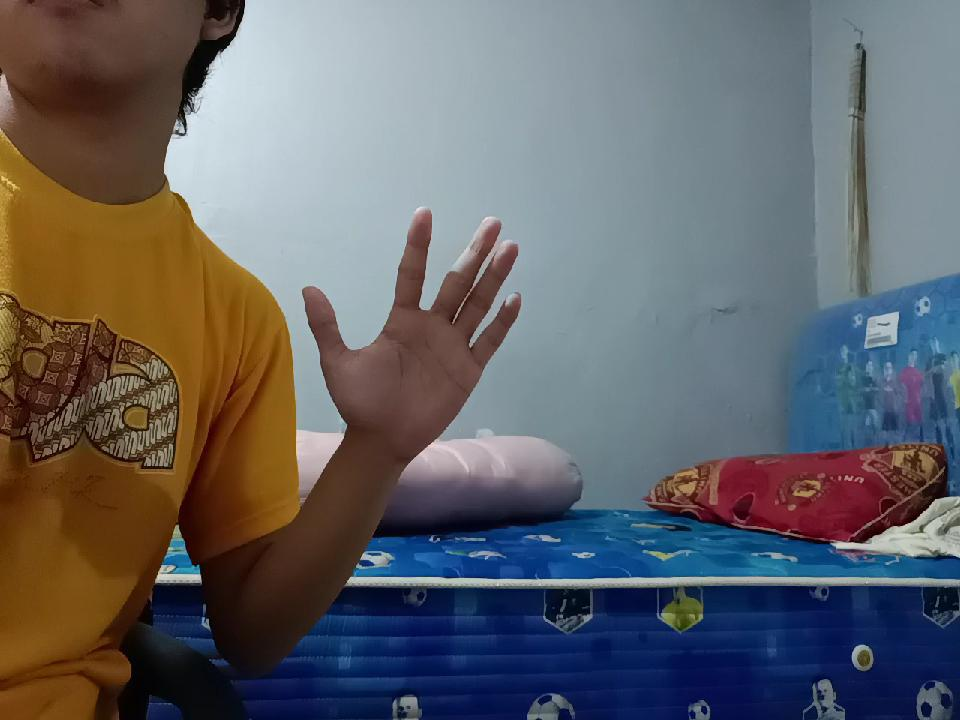paper: (304, 216, 528, 427)
